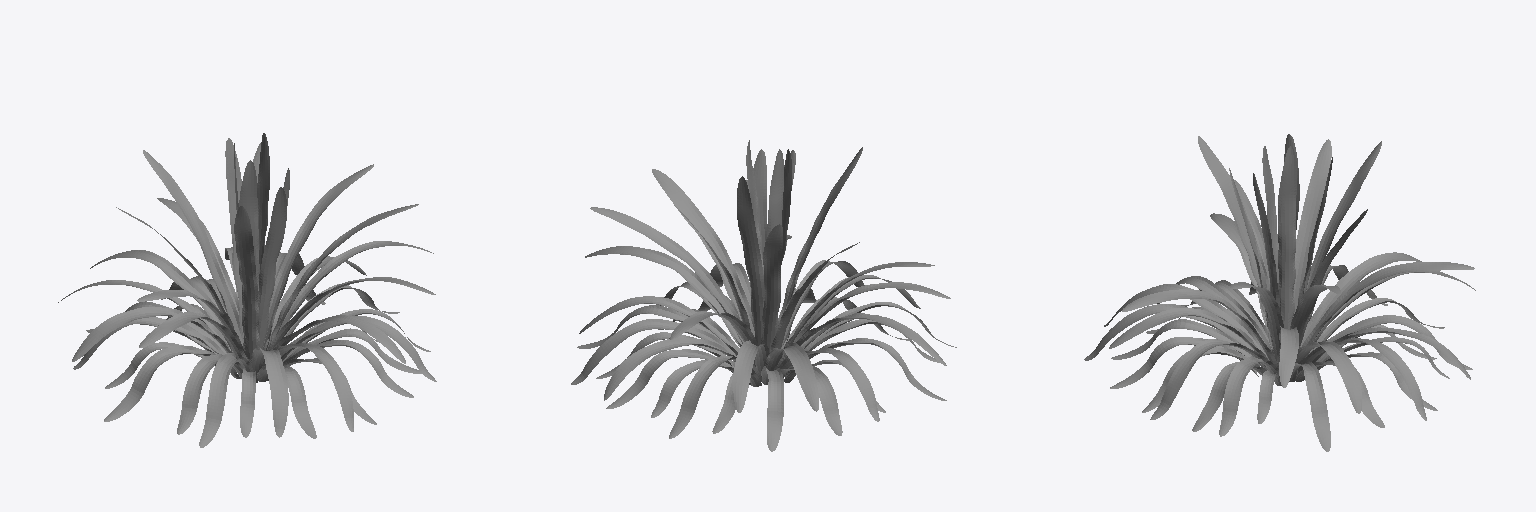
The model's file is Phormium_2.obj.
3 views of the same model, side by side, from view 1: azimuth 30°, elevation 25°; view 2: azimuth 150°, elevation 25°; view 3: azimuth 270°, elevation 25° (orthographic).
Visible parts, largest first — view 1: Phormium_tenax_A002; view 2: Phormium_tenax_A002; view 3: Phormium_tenax_A002.
Boxes of the visible parts, x1=… form: Phormium_tenax_A002: x1=58, y1=133, x2=436, y2=447; Phormium_tenax_A002: x1=571, y1=140, x2=956, y2=451; Phormium_tenax_A002: x1=1084, y1=134, x2=1475, y2=451.
Bounding box in the file's own units: 12.44 × 7.64 × 11.67.